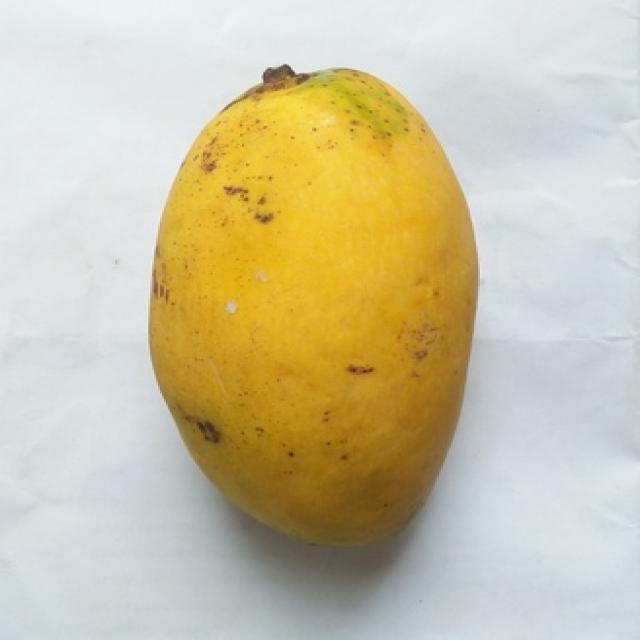Mango: (152, 65, 476, 543)
